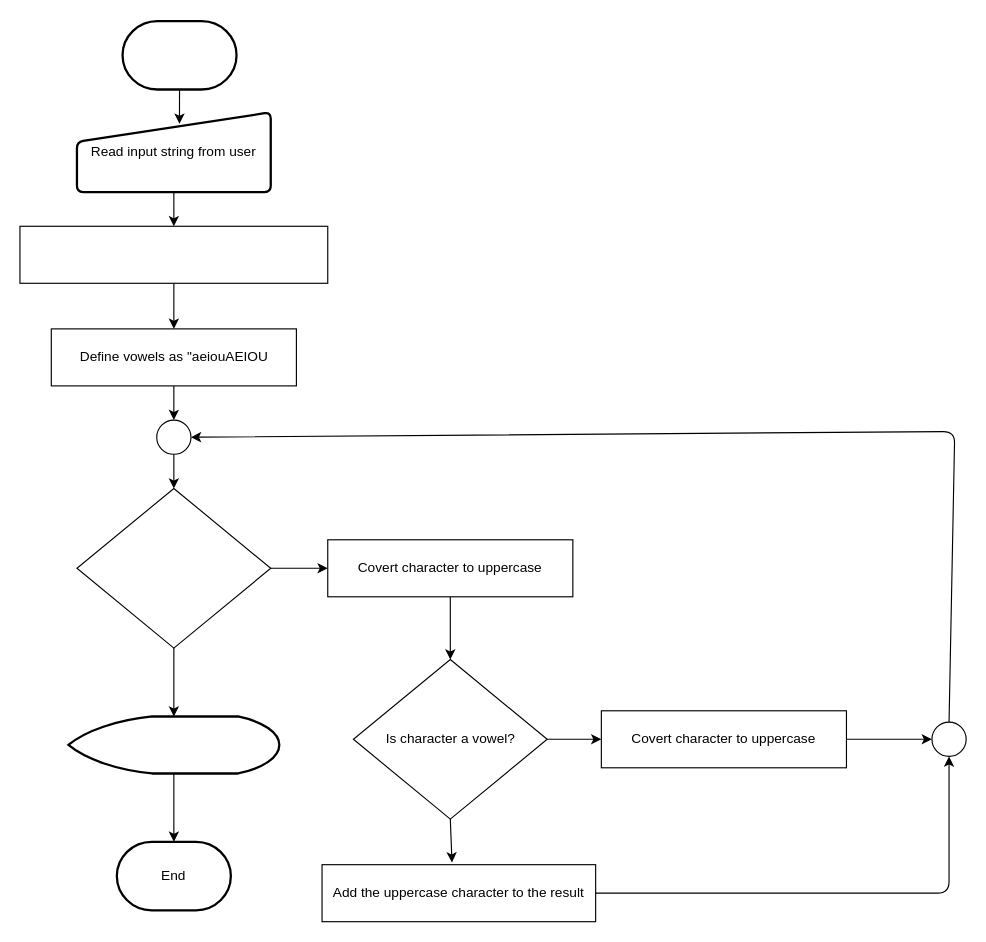
This 986x942 diagram has some shape labels left out. The centre of each missing label's shape, as x and y in pixels:
Initialize an empty string for the result: point 173,254
More characters in string?: point 173,567
Print the modified string: point 173,744
Start: point 179,54
